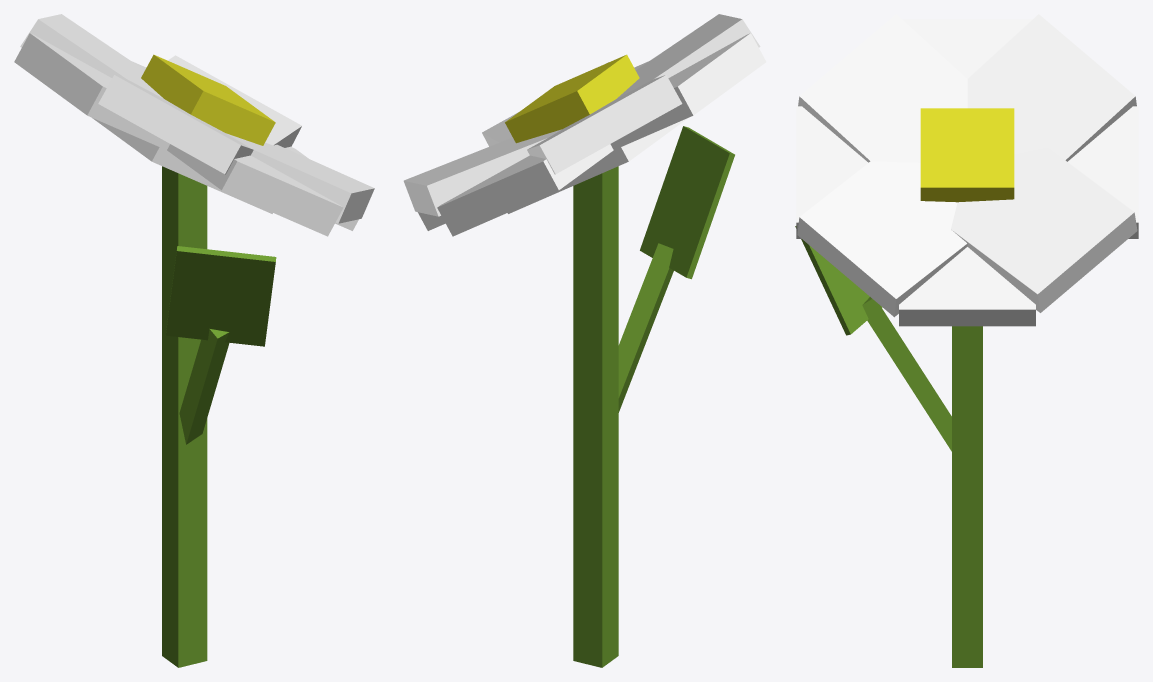
File: white flower.gltf
3 views of the same model, side by side, from view 1: azimuth 30°, elevation 25°; view 2: azimuth 150°, elevation 25°; view 3: azimuth 270°, elevation 25° (orthographic). The views are drawn at different scales.
Visible parts, largest first — view 1: 2f95a8cc-bbbc-db35-044c-f79740e91d66, 923728d6-7e14-abfe-4ef2-f1e9526024a1, 6e9d4138-4100-a9bb-bcc9-680ca79e0740, fb4f10db-031a-c53a-c5c2-0aac2ff49b2d, 76d5f1e0-da0c-5dad-d6c1-a25b473d68ca, 08eeee49-d1c8-8403-e501-237fbcf2336f, 70e2d5b8-fb36-3673-6394-4382a56b1b57, 5e36d5f6-5c8c-c5db-3223-4b51d02703ab, 4a72571e-9fbe-2ec7-f372-8be7525caeb4, 52942585-3229-d97f-2636-427560c31cca, 0cba9fad-0adc-b3a2-8696-2442c2e0c0a3; view 2: 2f95a8cc-bbbc-db35-044c-f79740e91d66, 923728d6-7e14-abfe-4ef2-f1e9526024a1, fb4f10db-031a-c53a-c5c2-0aac2ff49b2d, 5e36d5f6-5c8c-c5db-3223-4b51d02703ab, 08eeee49-d1c8-8403-e501-237fbcf2336f, 76d5f1e0-da0c-5dad-d6c1-a25b473d68ca, 0cba9fad-0adc-b3a2-8696-2442c2e0c0a3, 4a72571e-9fbe-2ec7-f372-8be7525caeb4, 6e9d4138-4100-a9bb-bcc9-680ca79e0740, 52942585-3229-d97f-2636-427560c31cca; view 3: 0cba9fad-0adc-b3a2-8696-2442c2e0c0a3, 70e2d5b8-fb36-3673-6394-4382a56b1b57, 6e9d4138-4100-a9bb-bcc9-680ca79e0740, 5e36d5f6-5c8c-c5db-3223-4b51d02703ab, 08eeee49-d1c8-8403-e501-237fbcf2336f, 2f95a8cc-bbbc-db35-044c-f79740e91d66, 76d5f1e0-da0c-5dad-d6c1-a25b473d68ca, fb4f10db-031a-c53a-c5c2-0aac2ff49b2d, 4a72571e-9fbe-2ec7-f372-8be7525caeb4, 923728d6-7e14-abfe-4ef2-f1e9526024a1.
Boxes of the visible parts, box(x1,y1,x2,y2) form: 2f95a8cc-bbbc-db35-044c-f79740e91d66: box(162, 166, 207, 667); 923728d6-7e14-abfe-4ef2-f1e9526024a1: box(165, 246, 276, 346); 6e9d4138-4100-a9bb-bcc9-680ca79e0740: box(98, 75, 253, 174); fb4f10db-031a-c53a-c5c2-0aac2ff49b2d: box(131, 61, 343, 236); 76d5f1e0-da0c-5dad-d6c1-a25b473d68ca: box(141, 54, 275, 145); 08eeee49-d1c8-8403-e501-237fbcf2336f: box(14, 33, 358, 230); 70e2d5b8-fb36-3673-6394-4382a56b1b57: box(226, 133, 374, 223); 5e36d5f6-5c8c-c5db-3223-4b51d02703ab: box(20, 14, 163, 98); 4a72571e-9fbe-2ec7-f372-8be7525caeb4: box(179, 329, 229, 444); 52942585-3229-d97f-2636-427560c31cca: box(92, 118, 272, 213); 0cba9fad-0adc-b3a2-8696-2442c2e0c0a3: box(168, 55, 301, 147); 2f95a8cc-bbbc-db35-044c-f79740e91d66: box(573, 166, 618, 667); 923728d6-7e14-abfe-4ef2-f1e9526024a1: box(640, 126, 734, 279); fb4f10db-031a-c53a-c5c2-0aac2ff49b2d: box(437, 61, 648, 236); 5e36d5f6-5c8c-c5db-3223-4b51d02703ab: box(527, 75, 682, 174); 08eeee49-d1c8-8403-e501-237fbcf2336f: box(418, 33, 766, 230); 76d5f1e0-da0c-5dad-d6c1-a25b473d68ca: box(505, 54, 639, 143); 0cba9fad-0adc-b3a2-8696-2442c2e0c0a3: box(403, 129, 561, 216); 4a72571e-9fbe-2ec7-f372-8be7525caeb4: box(618, 243, 673, 412); 6e9d4138-4100-a9bb-bcc9-680ca79e0740: box(617, 14, 760, 98); 52942585-3229-d97f-2636-427560c31cca: box(507, 118, 687, 213); 0cba9fad-0adc-b3a2-8696-2442c2e0c0a3: box(951, 147, 1137, 312); 70e2d5b8-fb36-3673-6394-4382a56b1b57: box(797, 161, 967, 317); 6e9d4138-4100-a9bb-bcc9-680ca79e0740: box(798, 14, 967, 162); 5e36d5f6-5c8c-c5db-3223-4b51d02703ab: box(967, 14, 1136, 161); 08eeee49-d1c8-8403-e501-237fbcf2336f: box(899, 19, 1035, 326); 2f95a8cc-bbbc-db35-044c-f79740e91d66: box(952, 326, 982, 667); 76d5f1e0-da0c-5dad-d6c1-a25b473d68ca: box(920, 108, 1014, 202); fb4f10db-031a-c53a-c5c2-0aac2ff49b2d: box(796, 106, 1138, 238); 4a72571e-9fbe-2ec7-f372-8be7525caeb4: box(862, 297, 951, 451); 923728d6-7e14-abfe-4ef2-f1e9526024a1: box(795, 226, 882, 335).
Bounding box in the file's own units: 0.6279 × 1.32 × 0.6895.
3 materials, 3 textured.
